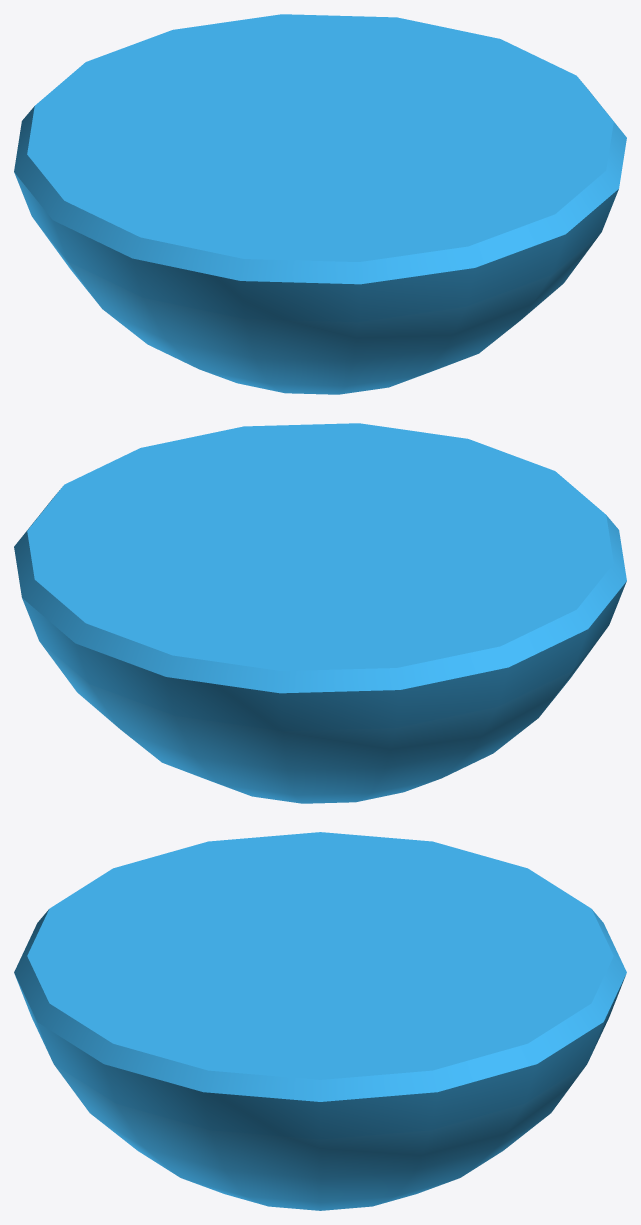
Rendered from Leg_05.fbx.
3 renders of one model, top to bottom at view 1: azimuth 30°, elevation 25°; view 2: azimuth 150°, elevation 25°; view 3: azimuth 270°, elevation 25°, orthographic.
Visible parts, largest first — view 1: Leg_05; view 2: Leg_05; view 3: Leg_05.
Boxes of the visible parts, x1=… form: Leg_05: x1=14, y1=14, x2=626, y2=394; Leg_05: x1=14, y1=423, x2=626, y2=803; Leg_05: x1=14, y1=832, x2=626, y2=1210.
Size of the model in its own units: 95.42 by 38.87 by 95.42.
